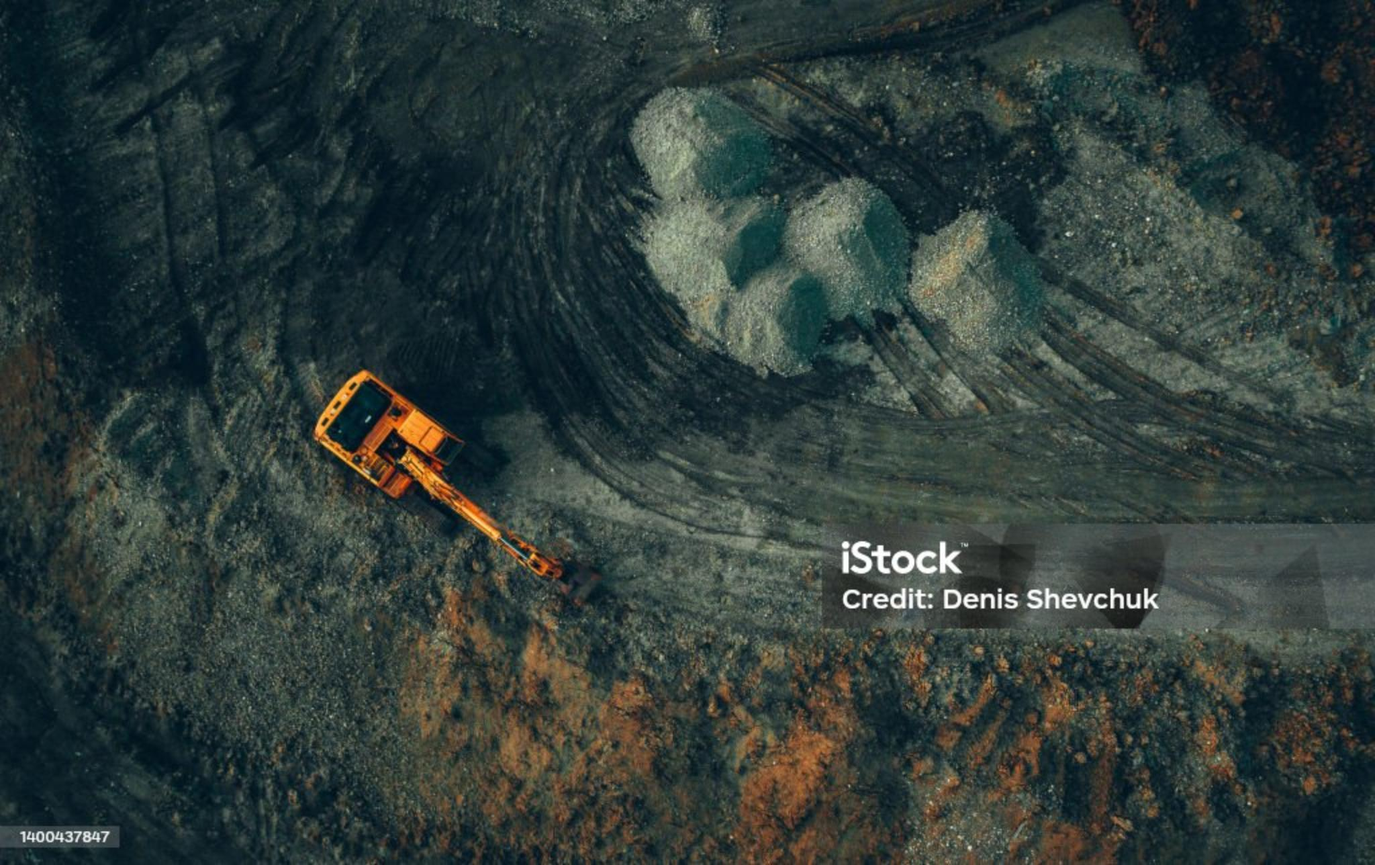excavator: (297, 365, 579, 610)
